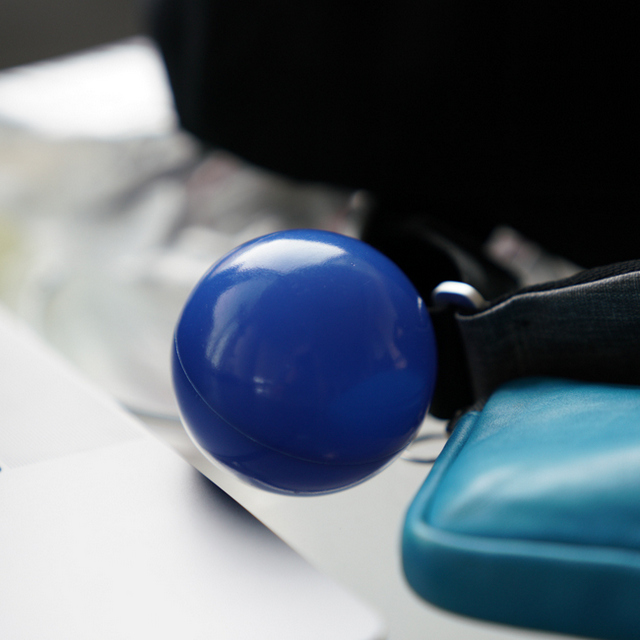Ball: (176, 228, 440, 498)
